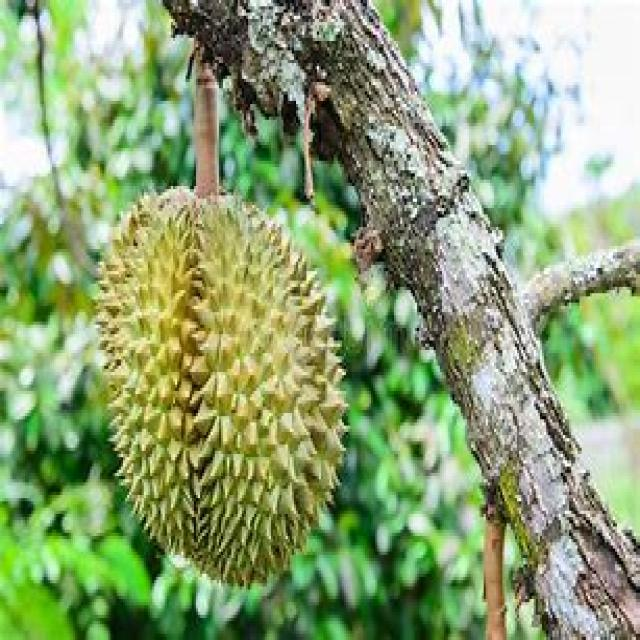mature: (98, 189, 345, 585)
